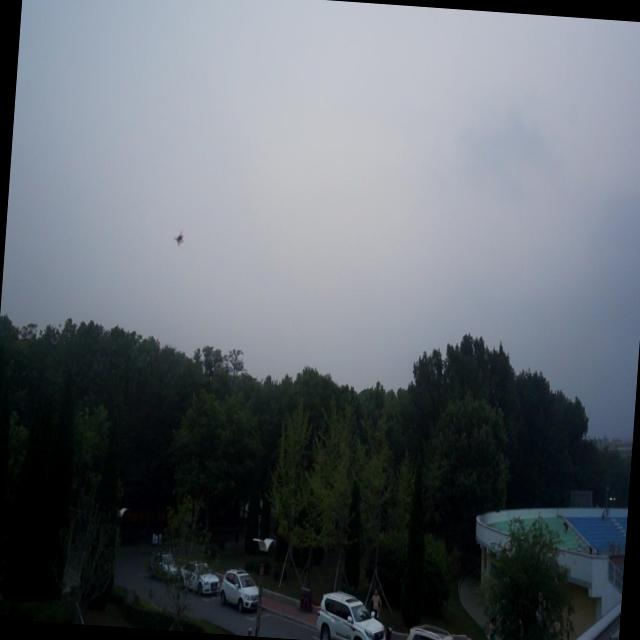drone: (174, 228, 185, 248)
